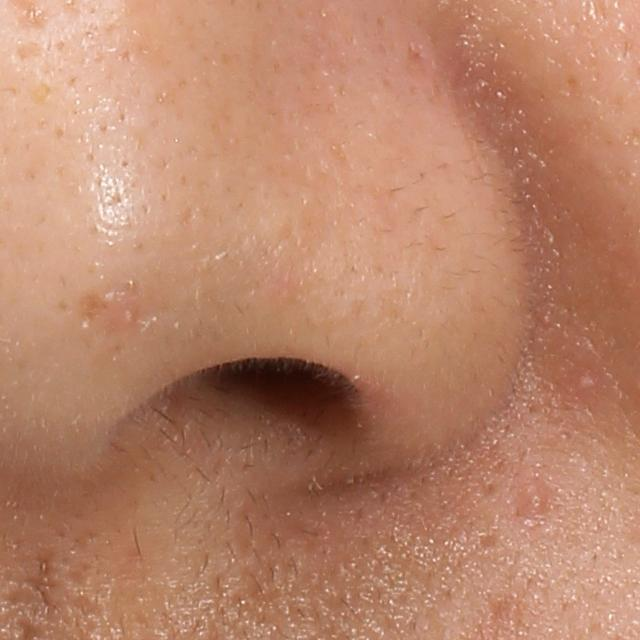atrophic_scar: (25, 544, 58, 609), (10, 38, 45, 69)
papule: (575, 369, 599, 392)
